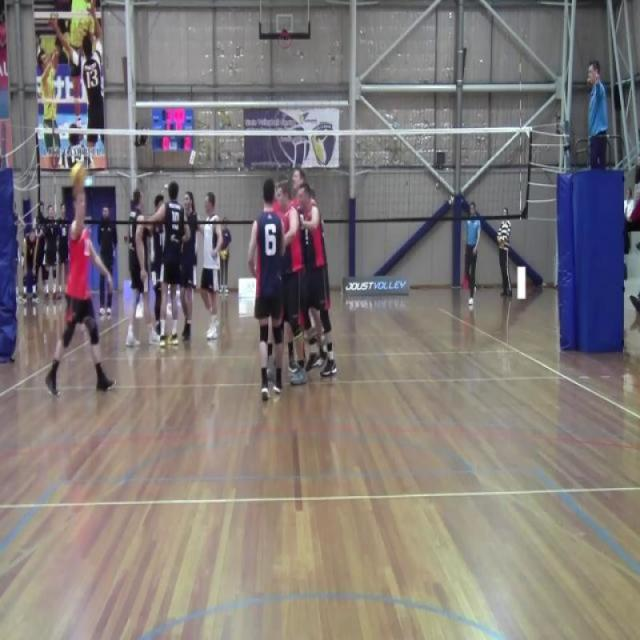volleyball: (68, 160, 90, 193), (220, 248, 228, 260)
